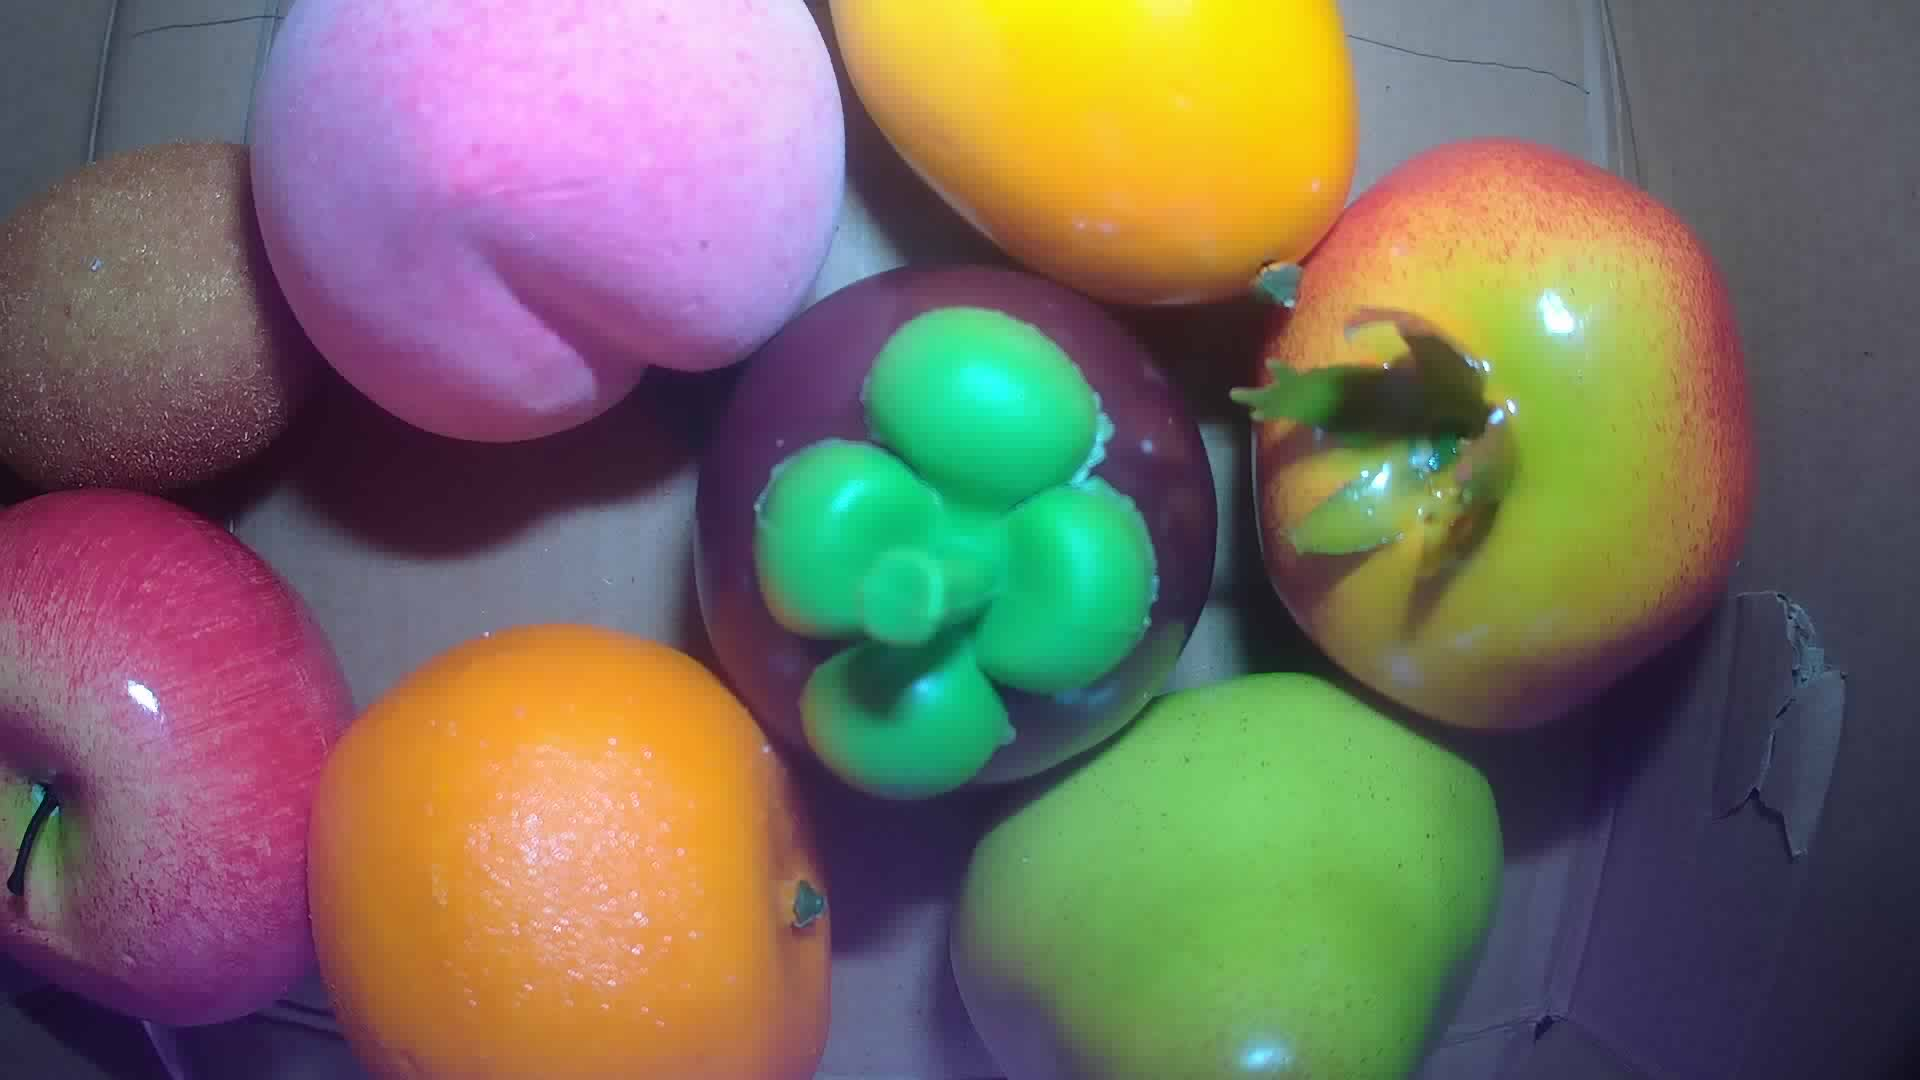apple: (1, 484, 355, 1030)
kiwi: (1, 135, 306, 491)
mango: (822, 1, 1362, 316)
mangosteen: (694, 256, 1217, 804)
orange: (301, 621, 832, 1080)
peach: (252, 1, 849, 444)
pear: (945, 654, 1507, 1080)
pomegranate: (1253, 135, 1756, 735)
